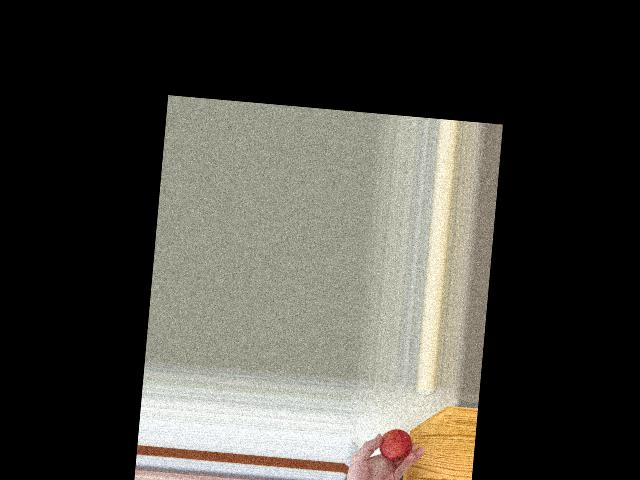apple: (377, 426, 413, 467)
